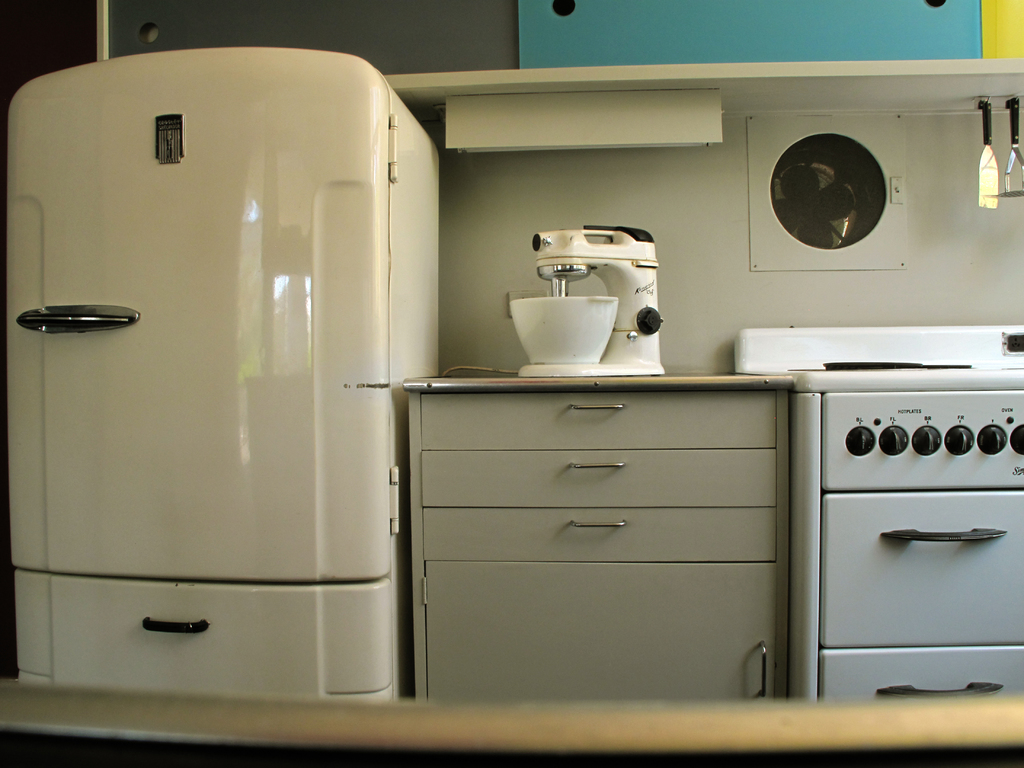cabinet door: (427, 565, 777, 707), (822, 500, 1024, 630), (526, 10, 978, 62), (114, 13, 518, 65), (430, 449, 775, 506), (438, 506, 770, 559), (425, 397, 772, 446), (824, 650, 1024, 715)
handle: (13, 301, 142, 331), (878, 524, 1005, 553), (881, 672, 998, 702), (140, 609, 210, 638), (558, 395, 630, 420), (566, 510, 627, 538), (562, 455, 622, 481), (754, 639, 779, 695)
refrigerator door: (13, 97, 386, 566), (22, 565, 387, 698)
